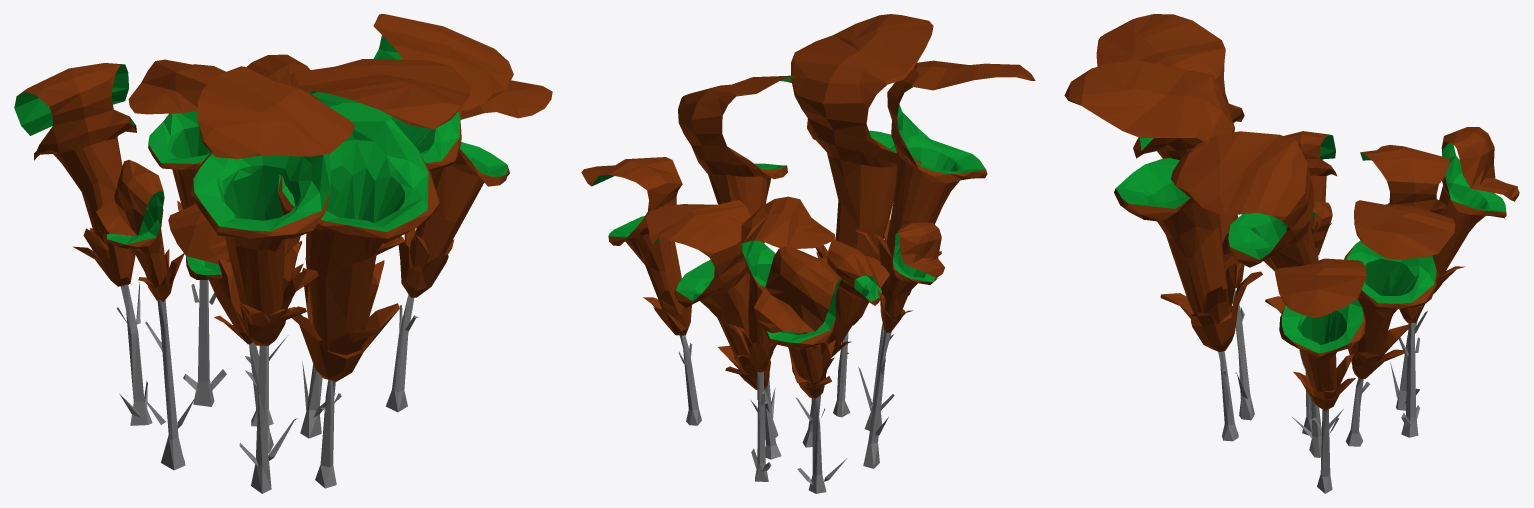
Rendered from ShrubGlove02.fbx.
3 views of the same model, side by side, from view 1: azimuth 30°, elevation 25°; view 2: azimuth 150°, elevation 25°; view 3: azimuth 270°, elevation 25° (orthographic). The views are drawn at different scales.
Visible parts, largest first — view 1: ShrubGlove02_LOD0; view 2: ShrubGlove02_LOD0; view 3: ShrubGlove02_LOD0.
Boxes of the visible parts, box(x1,y1,x2,y2) form: ShrubGlove02_LOD0: box(14, 14, 552, 493); ShrubGlove02_LOD0: box(581, 14, 1035, 493); ShrubGlove02_LOD0: box(1064, 14, 1519, 493).
Size of what is drawn, in the model's own units: 155 by 144 by 164.
